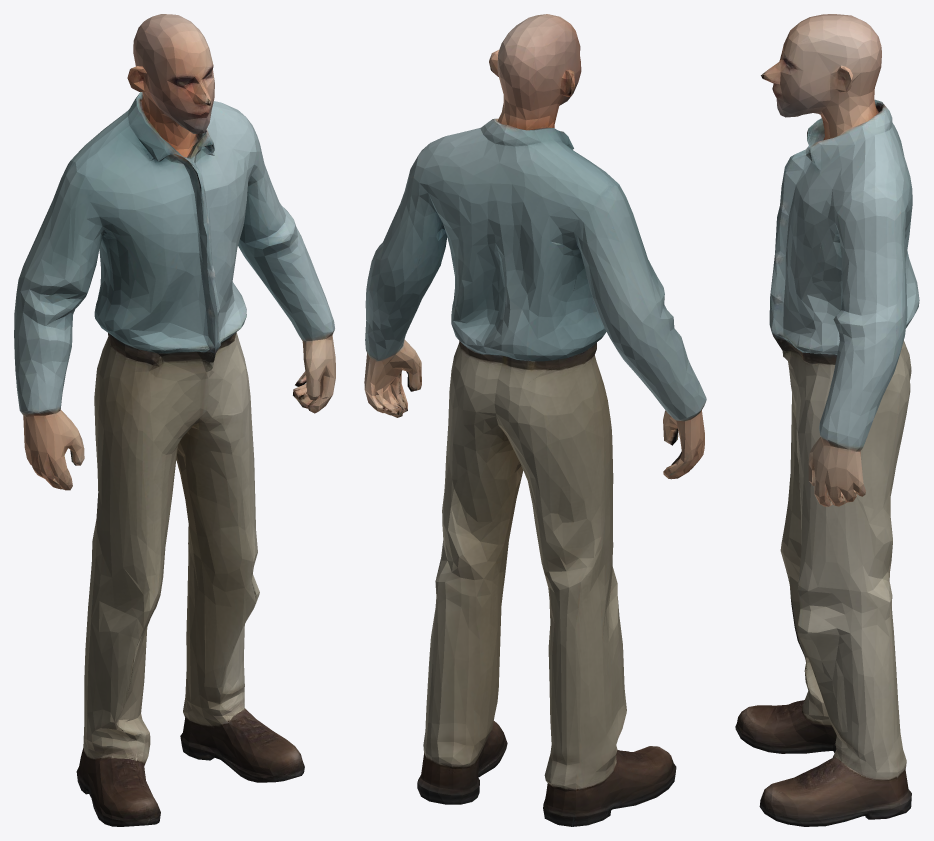
File: civilian.glb
3 renders of one model, left to right at view 1: azimuth 30°, elevation 25°; view 2: azimuth 150°, elevation 25°; view 3: azimuth 270°, elevation 25°, orthographic.
Parts seen in each view (by area): view 1: geometry_0; view 2: geometry_0; view 3: geometry_0.
Boxes of the visible parts, x1,y1,x2,y2 form: geometry_0: (14, 14, 335, 826); geometry_0: (364, 14, 706, 826); geometry_0: (735, 14, 919, 826).
Bounding box in the file's own units: 0.4369 × 0.9994 × 0.22.
Materials: 1 (1 with a texture image).
